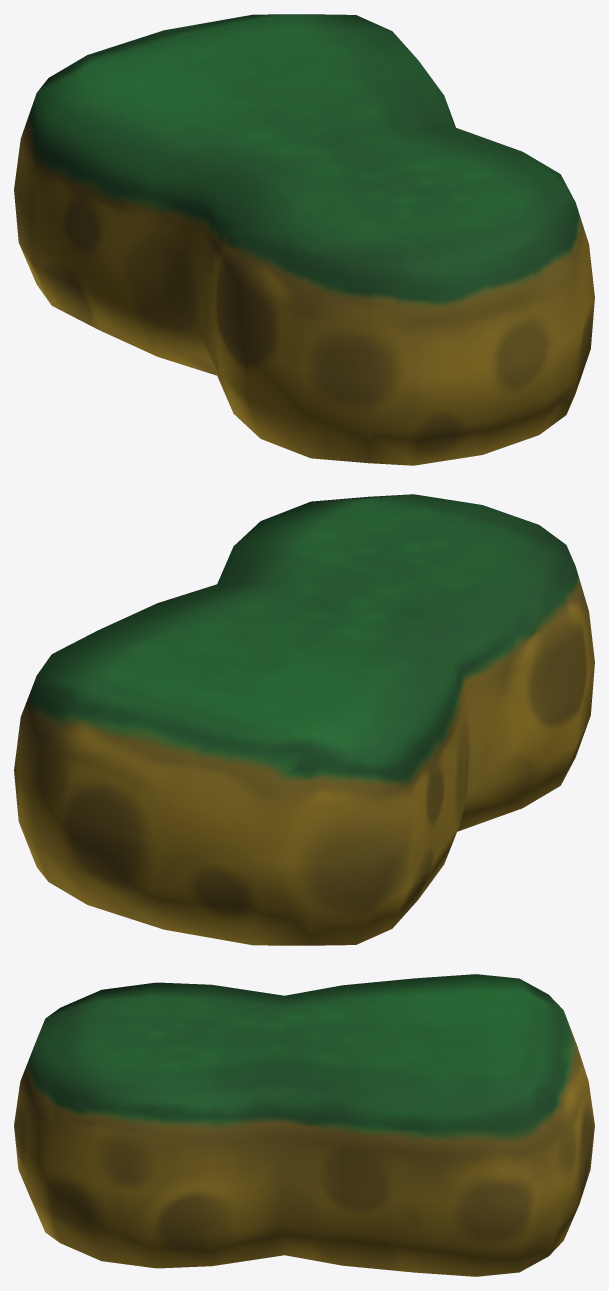
The model's file is item_Sponge.fbx.
3 renders of one model, top to bottom at view 1: azimuth 30°, elevation 25°; view 2: azimuth 150°, elevation 25°; view 3: azimuth 270°, elevation 25°, orthographic. The views are drawn at different scales.
Visible parts, largest first — view 1: item_Sponge; view 2: item_Sponge; view 3: item_Sponge.
Part boxes in pixels (x1,y1,x2,y2): item_Sponge: (14, 14, 594, 465); item_Sponge: (14, 494, 594, 945); item_Sponge: (14, 974, 594, 1276).
Size of the model in its own units: 11.61 by 6.24 by 18.2.
